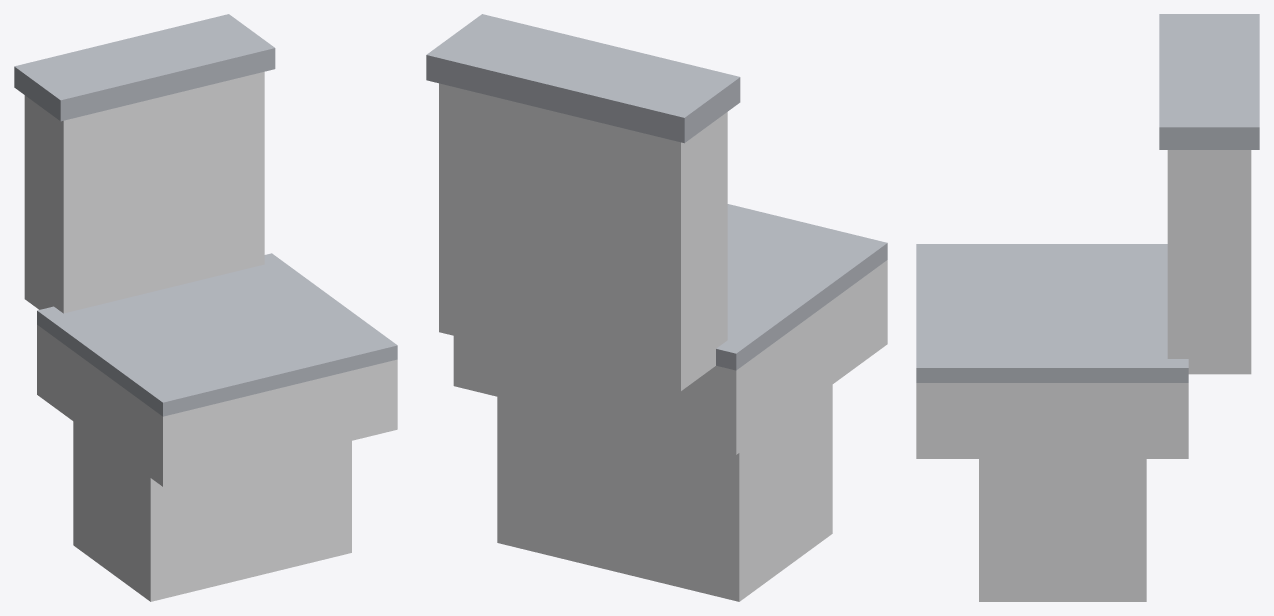
Rendered from toilet.glb.
The picture shows the model from 3 angles, left to right: view 1: azimuth 30°, elevation 25°; view 2: azimuth 150°, elevation 25°; view 3: azimuth 270°, elevation 25°; orthographic projection. The views are drawn at different scales.
Parts seen in each view (by area): view 1: toilet; view 2: toilet; view 3: toilet.
Boxes of the visible parts, box(x1,y1,x2,y2) form: toilet: box(14, 14, 397, 601); toilet: box(426, 14, 887, 601); toilet: box(916, 14, 1259, 601).
Size of the model in its own units: 0.35 by 0.63 by 0.41.
1 material, 1 textured.
